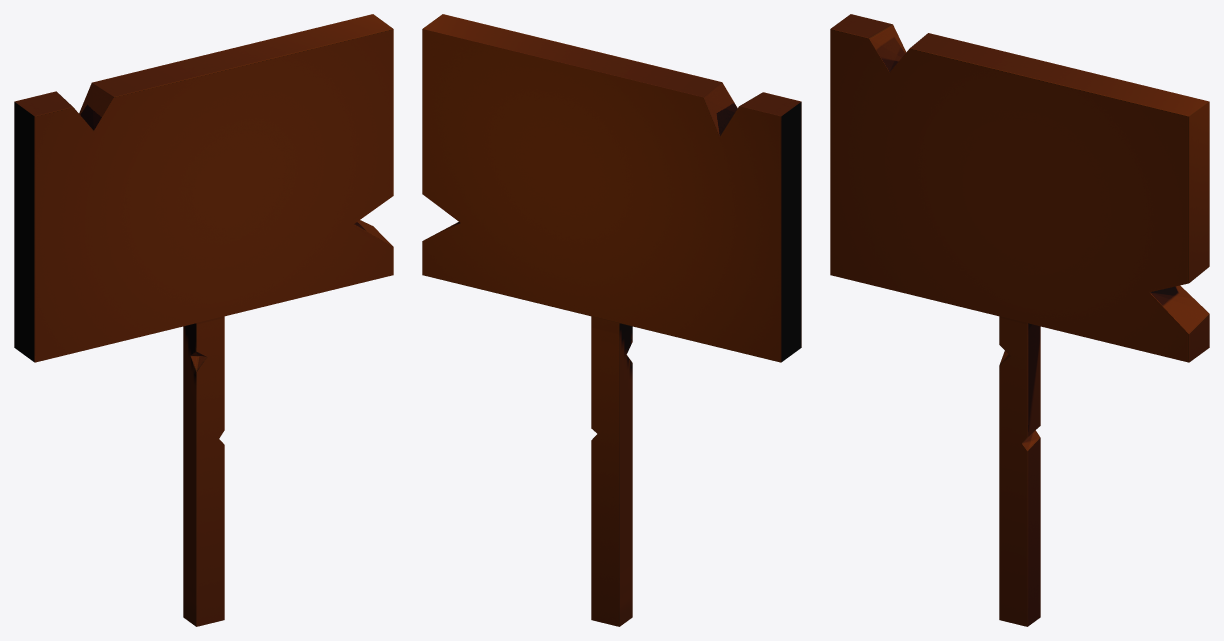
File: GameSign.fbx
3 views of the same model, side by side, from view 1: azimuth 30°, elevation 25°; view 2: azimuth 150°, elevation 25°; view 3: azimuth 330°, elevation 25° (orthographic).
Visible parts, largest first — view 1: Sign; view 2: Sign; view 3: Sign.
Part boxes in pixels (x1,y1,x2,y2): Sign: (14, 14, 393, 626); Sign: (422, 14, 801, 626); Sign: (830, 14, 1209, 626).
Size of the model in its own units: 305 by 450 by 30.22.
Materials: 1 (1 with a texture image).
